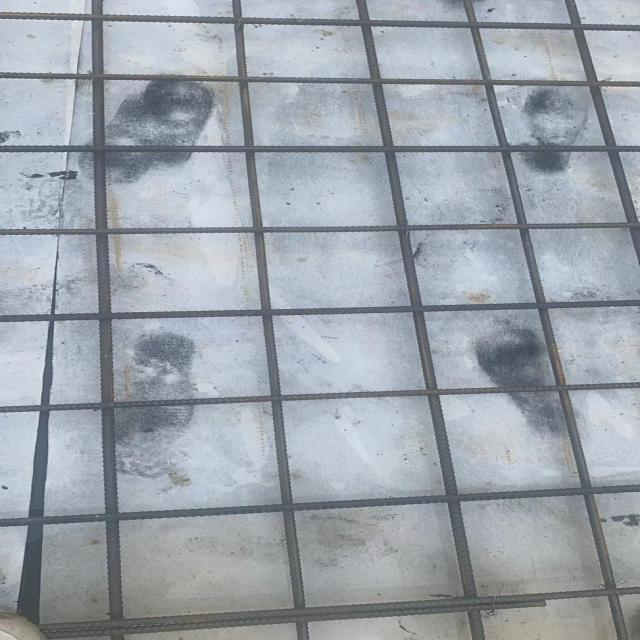ribbed bar: (460, 0, 628, 639), (352, 0, 488, 639), (229, 0, 308, 639), (40, 584, 639, 638), (0, 482, 639, 527), (88, 1, 126, 640), (0, 380, 639, 412), (563, 0, 639, 263), (0, 298, 639, 323), (0, 12, 639, 32), (0, 72, 639, 88), (0, 221, 639, 236), (0, 143, 639, 154)
